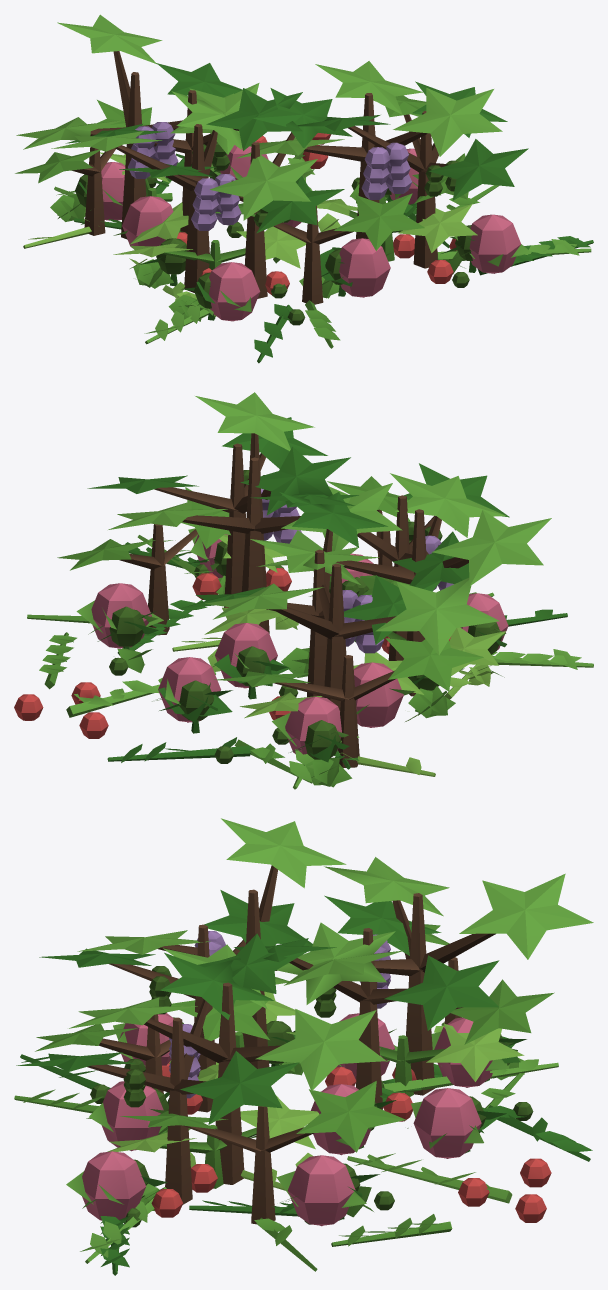
Rendered from crops-autumn.glb.
The picture shows the model from 3 angles, top to bottom: view 1: azimuth 30°, elevation 25°; view 2: azimuth 150°, elevation 25°; view 3: azimuth 270°, elevation 25°; orthographic projection. The views are drawn at different scales.
Visible parts, largest first — view 1: SM_crop_grape_s4, SM_crop_grape_s3, SM_crop_beetroot_s4, SM_crop_grape_s2, SM_crop_grape_s1, SM_crop_cranberry_s4, SM_crop_cranberry_s3, SM_crop_beetroot_s3, SM_crop_beetroot_s2, SM_crop_cranberry_s2, SM_crop_cranberry_s1; view 2: SM_crop_grape_s4, SM_crop_grape_s3, SM_crop_beetroot_s4, SM_crop_grape_s2, SM_crop_beetroot_s3, SM_crop_cranberry_s4, SM_crop_cranberry_s3, SM_crop_grape_s1, SM_crop_beetroot_s2, SM_crop_cranberry_s2, SM_crop_cranberry_s1, SM_crop_beetroot_s1; view 3: SM_crop_grape_s4, SM_crop_grape_s3, SM_crop_beetroot_s4, SM_crop_grape_s2, SM_crop_cranberry_s4, SM_crop_grape_s1, SM_crop_cranberry_s3, SM_crop_cranberry_s2, SM_crop_beetroot_s3, SM_crop_beetroot_s2.
Boxes of the visible parts, x1,y1,x2,y2 form: SM_crop_grape_s4: (16,14,502,292); SM_crop_grape_s3: (65,63,528,298); SM_crop_beetroot_s4: (90,141,531,321); SM_crop_grape_s2: (15,95,468,304); SM_crop_grape_s1: (100,152,477,269); SM_crop_cranberry_s4: (54,133,591,344); SM_crop_cranberry_s3: (74,153,593,363); SM_crop_beetroot_s3: (69,155,476,320); SM_crop_beetroot_s2: (50,184,465,321); SM_crop_cranberry_s2: (156,185,498,348); SM_crop_cranberry_s1: (23,226,216,316); SM_crop_grape_s4: (108,392,551,711); SM_crop_grape_s3: (87,417,509,697); SM_crop_beetroot_s4: (76,528,508,754); SM_crop_grape_s2: (57,476,483,767); SM_crop_beetroot_s3: (97,541,506,762); SM_crop_cranberry_s4: (14,535,593,789); SM_crop_cranberry_s3: (107,542,567,769); SM_crop_grape_s1: (204,534,505,718); SM_crop_beetroot_s2: (117,575,504,787); SM_crop_cranberry_s2: (27,592,494,783); SM_crop_cranberry_s1: (172,637,480,776); SM_crop_beetroot_s1: (207,615,493,762); SM_crop_grape_s4: (69,818,593,1184); SM_crop_grape_s3: (16,890,499,1204); SM_crop_beetroot_s4: (66,1013,513,1226); SM_crop_grape_s2: (35,924,554,1224); SM_crop_cranberry_s4: (80,1059,558,1263); SM_crop_grape_s1: (107,991,524,1188); SM_crop_cranberry_s3: (20,1054,592,1275); SM_crop_cranberry_s2: (14,1073,524,1271); SM_crop_beetroot_s3: (134,1017,526,1220); SM_crop_beetroot_s2: (140,1049,524,1217).
Size of the model in its own units: 1.82 by 0.6411 by 1.64.
